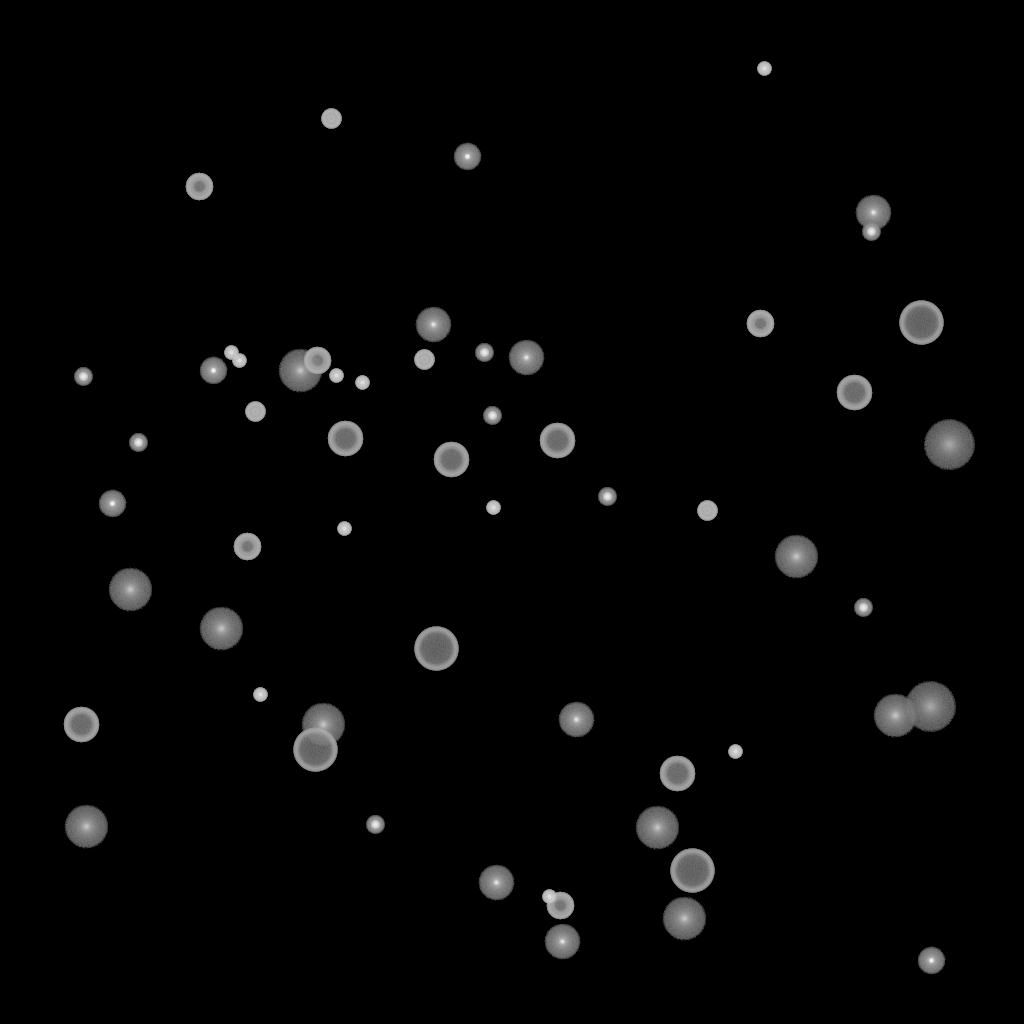depth:-10: (199, 357, 227, 385), (98, 490, 126, 518), (453, 143, 481, 171), (917, 947, 945, 975)
depth:-20: (366, 816, 384, 834), (74, 368, 92, 386), (483, 407, 501, 425), (475, 344, 493, 362), (854, 599, 872, 617), (862, 223, 880, 241), (129, 434, 147, 452), (598, 488, 616, 506)
depth:-30: (728, 745, 742, 759), (355, 376, 369, 390), (253, 688, 267, 702), (329, 369, 343, 383), (486, 501, 500, 515), (232, 354, 246, 368), (224, 346, 238, 360), (542, 890, 556, 904), (337, 522, 351, 536), (757, 62, 771, 76)
depth:-40: (245, 402, 265, 422), (321, 109, 341, 129), (697, 501, 717, 521), (414, 350, 434, 370)
depth:-50: (746, 310, 774, 338), (546, 892, 574, 920), (185, 173, 213, 201), (303, 347, 331, 375), (233, 533, 261, 561)
depth:-60: (327, 421, 363, 457), (836, 375, 872, 411), (659, 756, 695, 792), (539, 423, 575, 459), (63, 707, 99, 743), (433, 442, 469, 478)
depth:-70: (670, 849, 714, 893), (414, 627, 458, 671), (293, 728, 337, 772), (899, 301, 943, 345)
depth:0: (508, 340, 544, 376), (478, 865, 514, 901), (544, 924, 580, 960), (855, 195, 891, 231), (415, 307, 451, 343), (558, 702, 594, 738)
depth:10: (662, 897, 706, 941), (64, 805, 108, 849), (635, 806, 679, 850), (774, 535, 818, 579), (108, 568, 152, 612), (199, 607, 243, 651), (301, 703, 345, 747), (873, 694, 917, 738), (278, 349, 322, 393)
depth:20: (923, 420, 975, 470), (904, 682, 956, 732)
